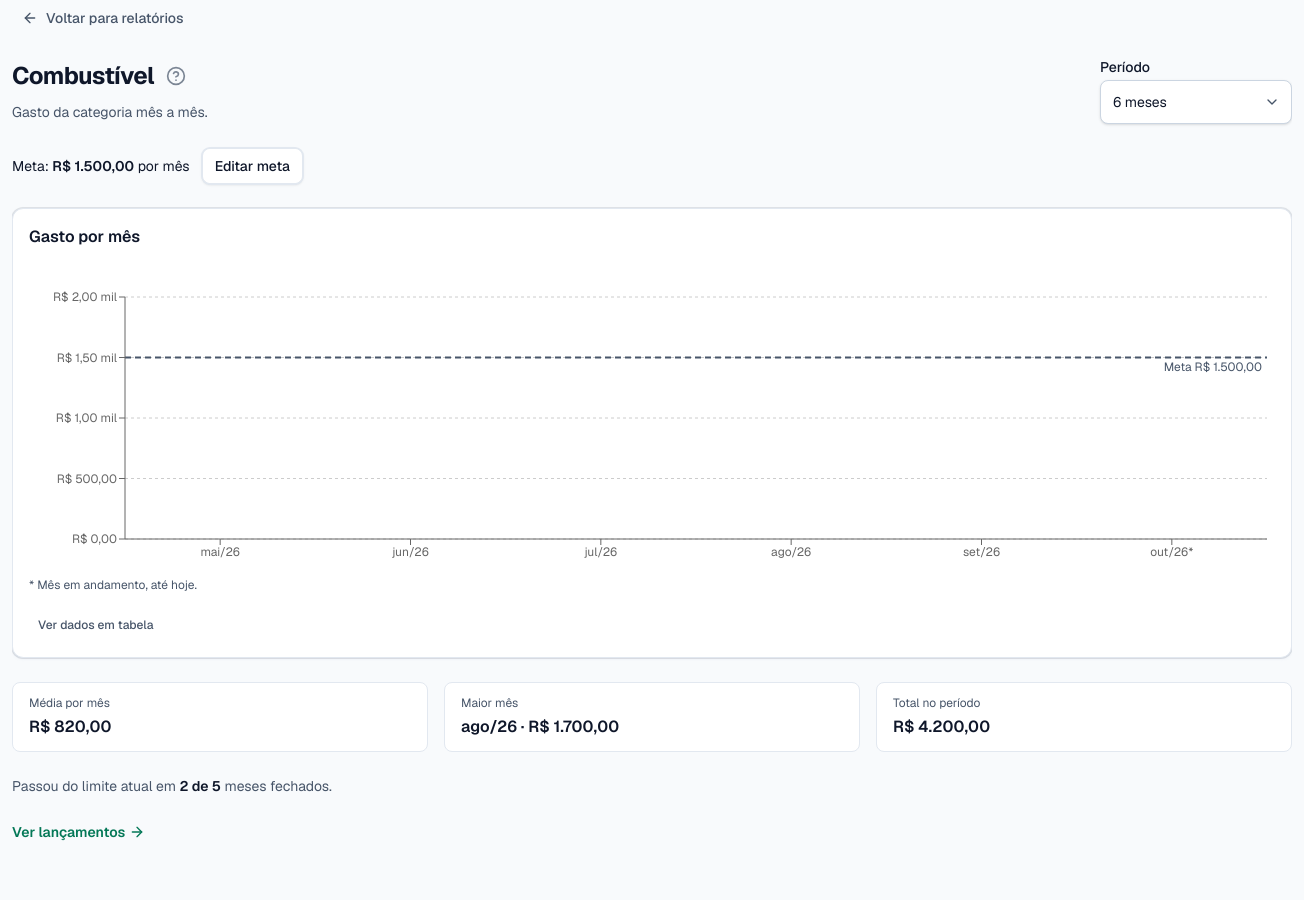
Test: CategoryHistoryPageContent › should describe the goal hint average as the selected period
Click the button "Editar meta" at (252, 166), box [202, 148, 303, 184]
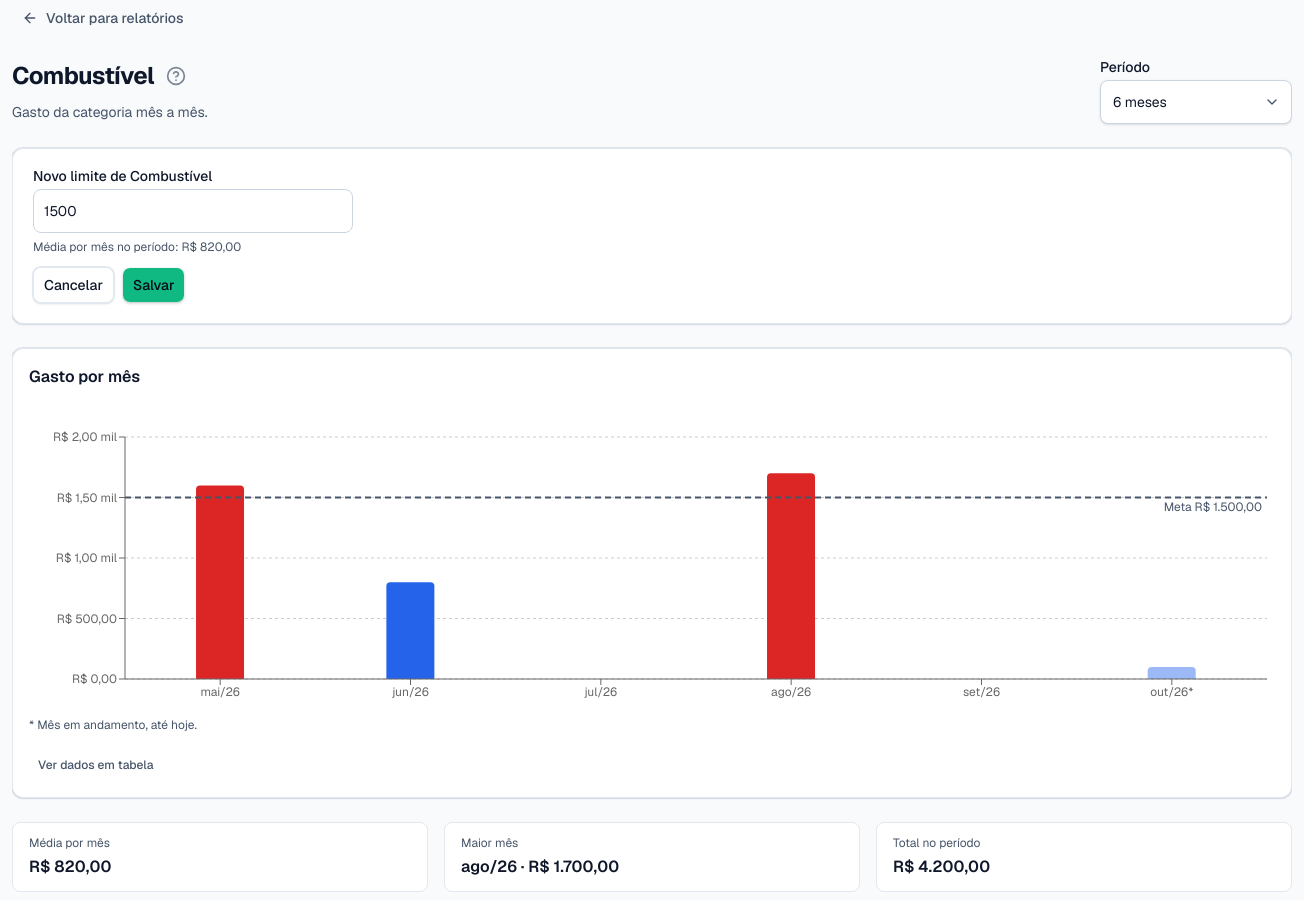
Now the text "Média por mês no período: R$ 820,00" is shown, box [33, 239, 241, 255]
